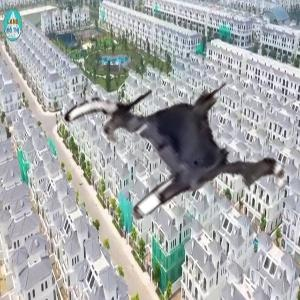drone: (68, 36, 293, 261)
